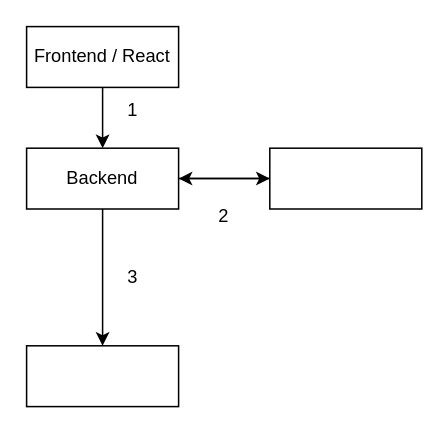
This 448x433 diagram has some shape labels left out. The shapes that lost their labels are listed below. From the top down, each one's centre as x and y in pixels, then its label:
At pixel 345 178: "Mail Renderer".
At pixel 102 375: "Email Service".
